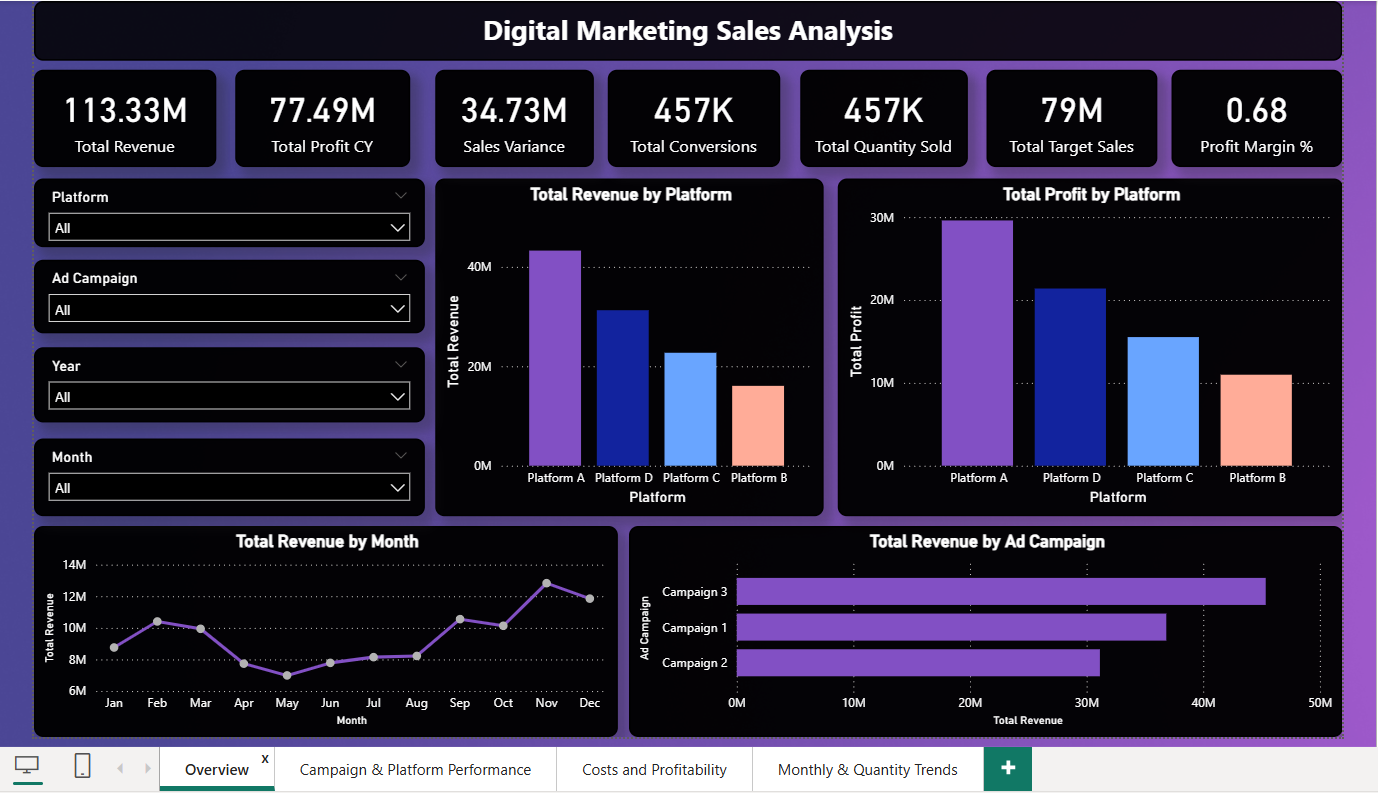

Layout of this report page (visuals, bound fields, positions):
{"tool":"powerbi","page":{"name":"Overview","canvas":[1280,720],"ordinal":0},"visuals":[{"type":"textbox","box":[0,0,1280.3,58.7],"z":0},{"type":"card","fields":{"Values":["Data.Revenue"]},"box":[0,67.3,178.5,95.4],"z":1000},{"type":"card","fields":{"Values":["Data.Total Profit CY"]},"box":[196.9,67.3,171.2,95.4],"z":2000},{"type":"card","fields":{"Values":["Data.Total Quantity Sold"]},"box":[749.6,67.3,163.9,95.4],"z":3000},{"type":"card","fields":{"Values":["Sales Target.Total Target Sales"]},"box":[931.8,67.3,167.5,95.4],"z":4000},{"type":"clusteredColumnChart","fields":{"Category":["Data.Platform"],"Y":["Data.Total Revenue"]},"box":[392.5,173.6,380.3,330.2],"z":5000},{"type":"lineChart","fields":{"Y":["Data.Total Revenue"],"Category":["Data.Month"]},"box":[0,513.6,571.1,206.7],"z":6000},{"type":"clusteredColumnChart","fields":{"Y":["Data.Profit"],"Category":["Data.Platform"]},"box":[786.3,173.6,494,330.2],"z":8000},{"type":"clusteredBarChart","fields":{"Y":["Data.Total Revenue"],"Category":["Data.Ad Campaign"]},"box":[582.1,513.6,698.2,206.7],"z":10000},{"type":"card","fields":{"Values":["Data.Profit Margin %"]},"box":[1112.8,67.3,167.5,95.4],"z":11000},{"type":"slicer","title":"Platform","fields":{"Values":["Data.Platform"]},"box":[0,173.6,382.7,67.3],"z":13000},{"type":"card","fields":{"Values":["Data.Sales Variance"]},"box":[392.5,67.3,155.3,95.4],"z":14000},{"type":"card","fields":{"Values":["Data.Total Conversions"]},"box":[561.3,67.3,168.8,95.4],"z":15000},{"type":"slicer","fields":{"Values":["Data.Ad Campaign"]},"box":[0,253.1,382.7,72.1],"z":16000},{"type":"slicer","fields":{"Values":["Data.Year"]},"box":[0,338.7,382.7,73.4],"z":17000},{"type":"slicer","fields":{"Values":["Data.Month"]},"box":[0,428,382.7,75.8],"z":18000}]}

Visuals, with their boxes on the page's 1280x720 design canvas (x1, y1, x2, y2). These are canvas units, not pixel positions in the 1378x793 screenshot, which may show the page scaled, cropped or inside an application window:
textbox: bbox(0, 0, 1280, 59)
card - Data.Revenue: bbox(0, 67, 178, 163)
card - Data.Total Profit CY: bbox(197, 67, 368, 163)
card - Data.Total Quantity Sold: bbox(750, 67, 914, 163)
card - Sales Target.Total Target Sales: bbox(932, 67, 1099, 163)
clusteredColumnChart - Data.Platform x Data.Total Revenue: bbox(392, 174, 773, 504)
lineChart - Data.Total Revenue x Data.Month: bbox(0, 514, 571, 720)
clusteredColumnChart - Data.Profit x Data.Platform: bbox(786, 174, 1280, 504)
clusteredBarChart - Data.Total Revenue x Data.Ad Campaign: bbox(582, 514, 1280, 720)
card - Data.Profit Margin %: bbox(1113, 67, 1280, 163)
"Platform" slicer: bbox(0, 174, 383, 241)
card - Data.Sales Variance: bbox(392, 67, 548, 163)
card - Data.Total Conversions: bbox(561, 67, 730, 163)
slicer - Data.Ad Campaign: bbox(0, 253, 383, 325)
slicer - Data.Year: bbox(0, 339, 383, 412)
slicer - Data.Month: bbox(0, 428, 383, 504)
